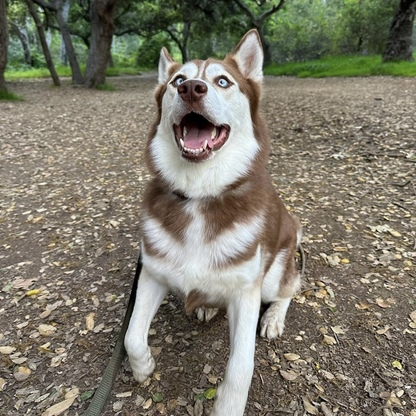husky: (118, 23, 307, 416)
